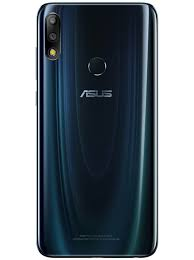asus: (35, 1, 163, 258)
